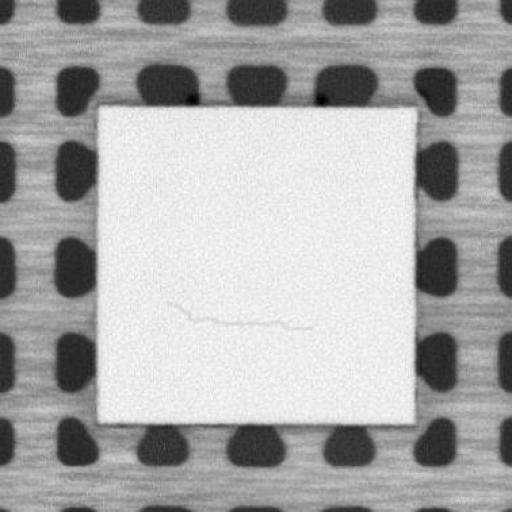DIE_CRACK: (160, 298, 311, 334)
